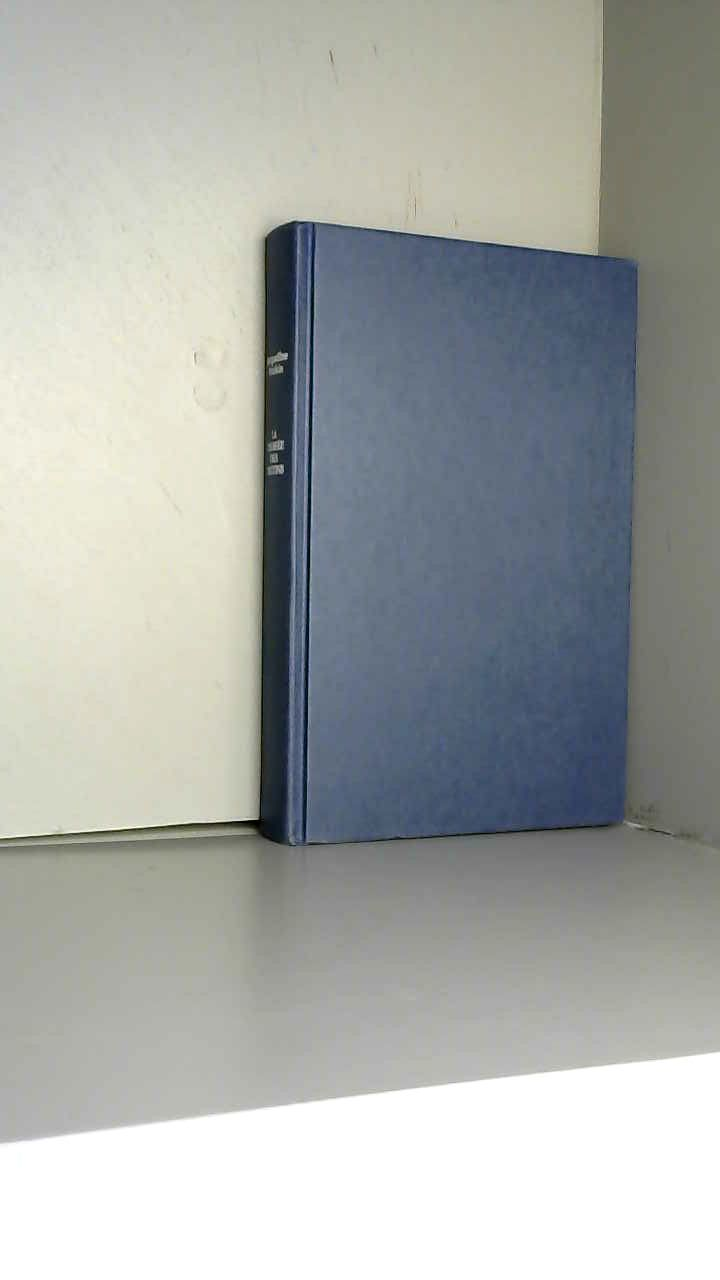book: (230, 190, 718, 868)
